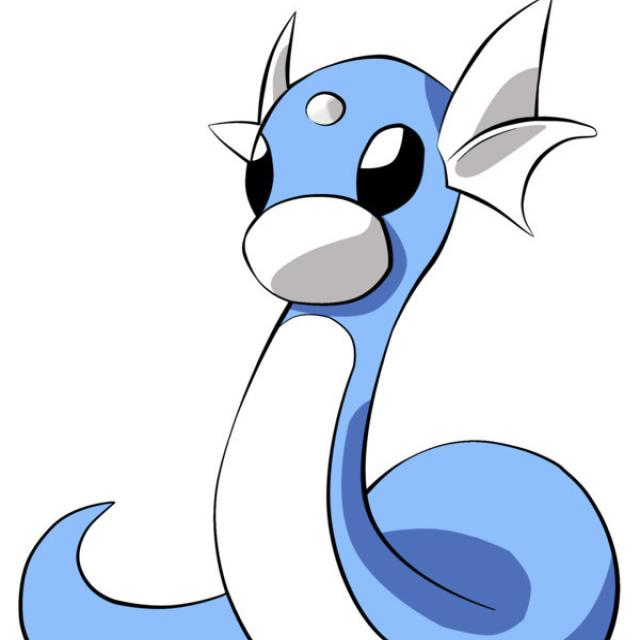Dratini: (194, 5, 608, 640)
